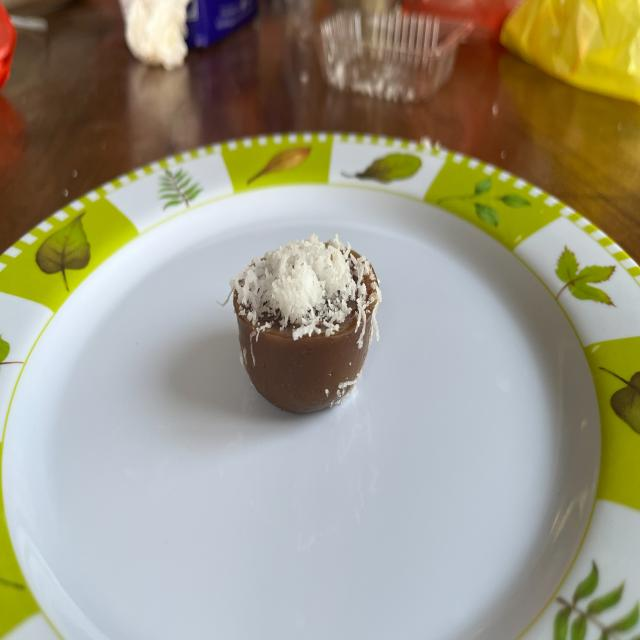Kuih lompang: (230, 233, 381, 413)
